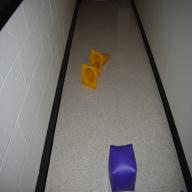cone: (90, 48, 110, 76), (81, 60, 99, 90)
cube: (108, 143, 138, 192)
